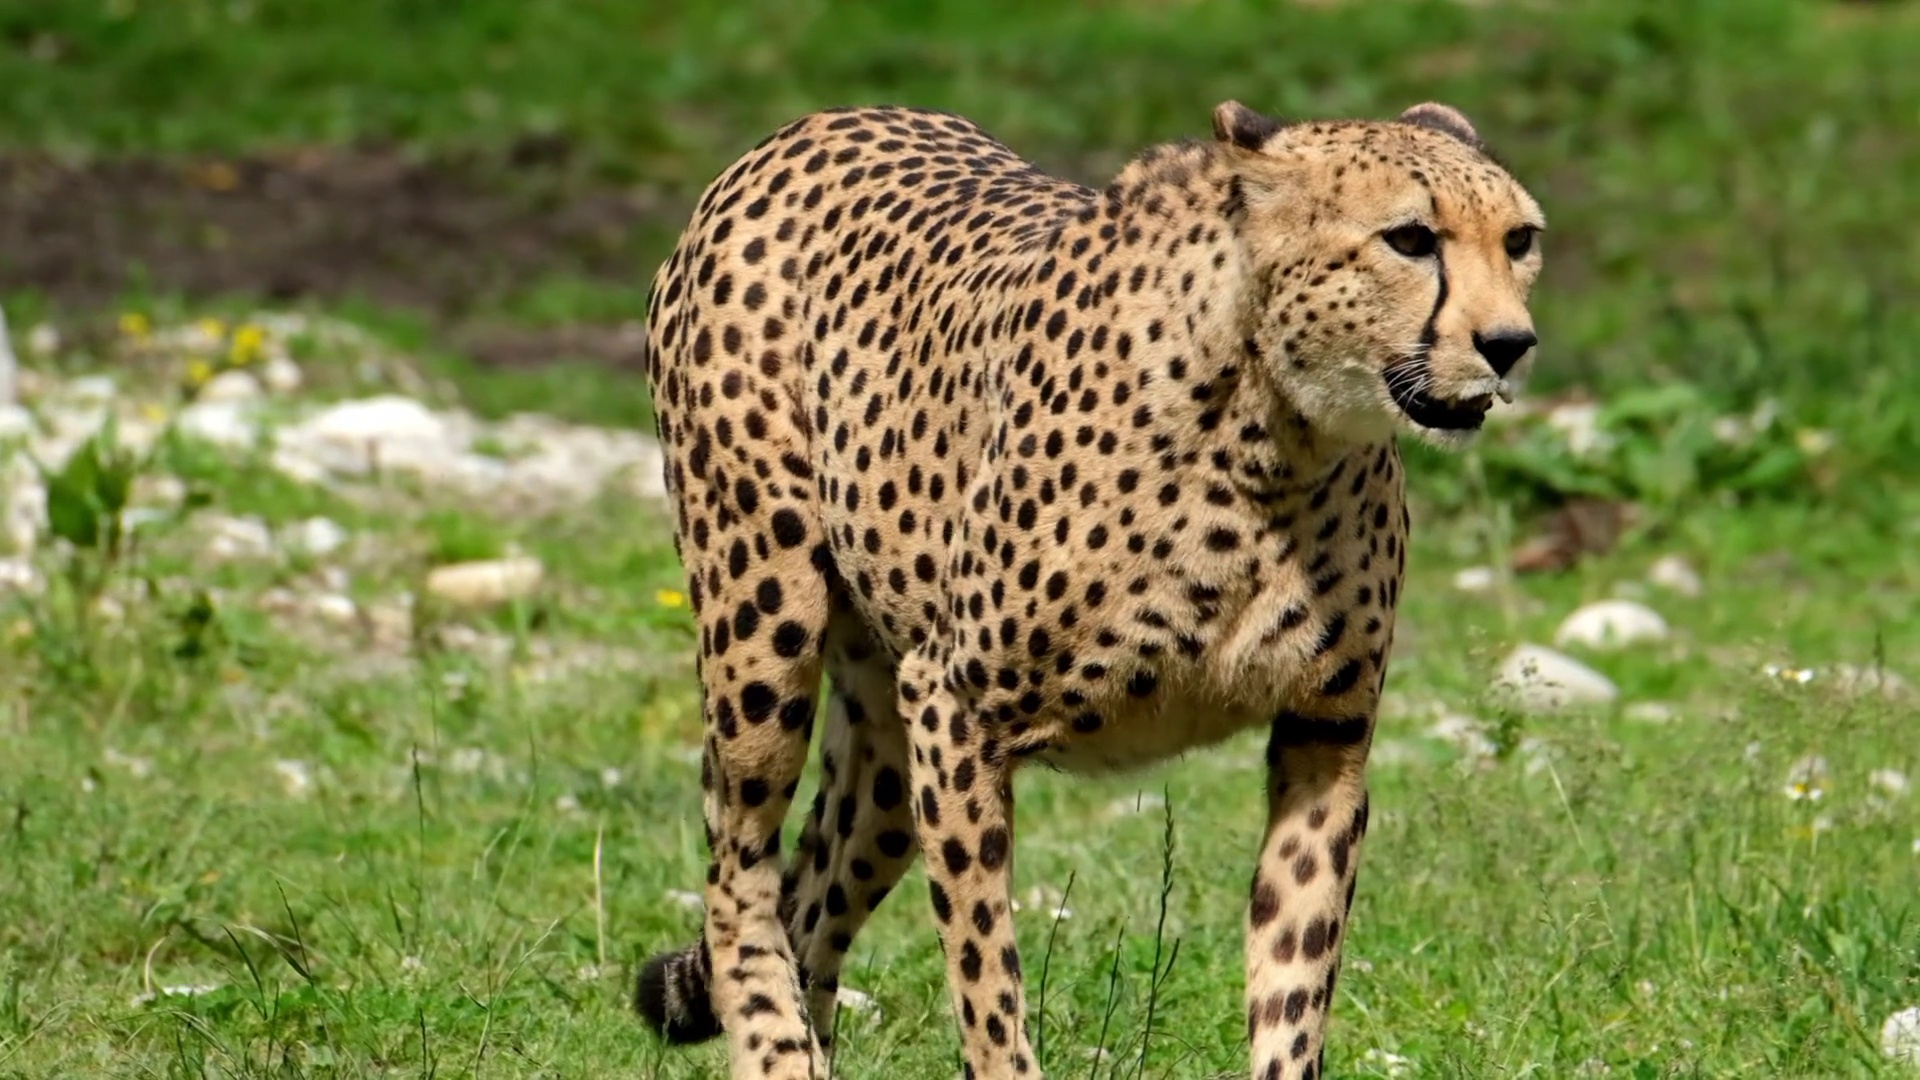Cheetah: (629, 92, 1556, 1080)
